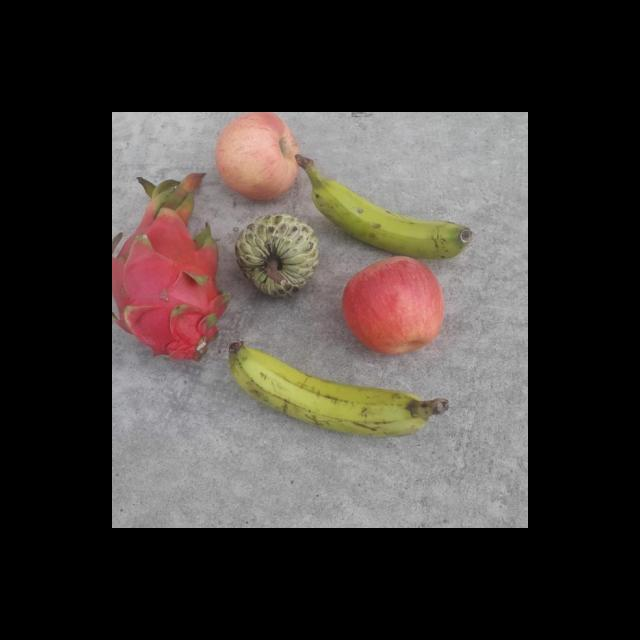Sakya fruit: (234, 213, 318, 300)
apple: (341, 256, 446, 356), (215, 112, 301, 201)
banana: (224, 339, 448, 440), (292, 154, 473, 260)
pitaya: (113, 172, 230, 364)
